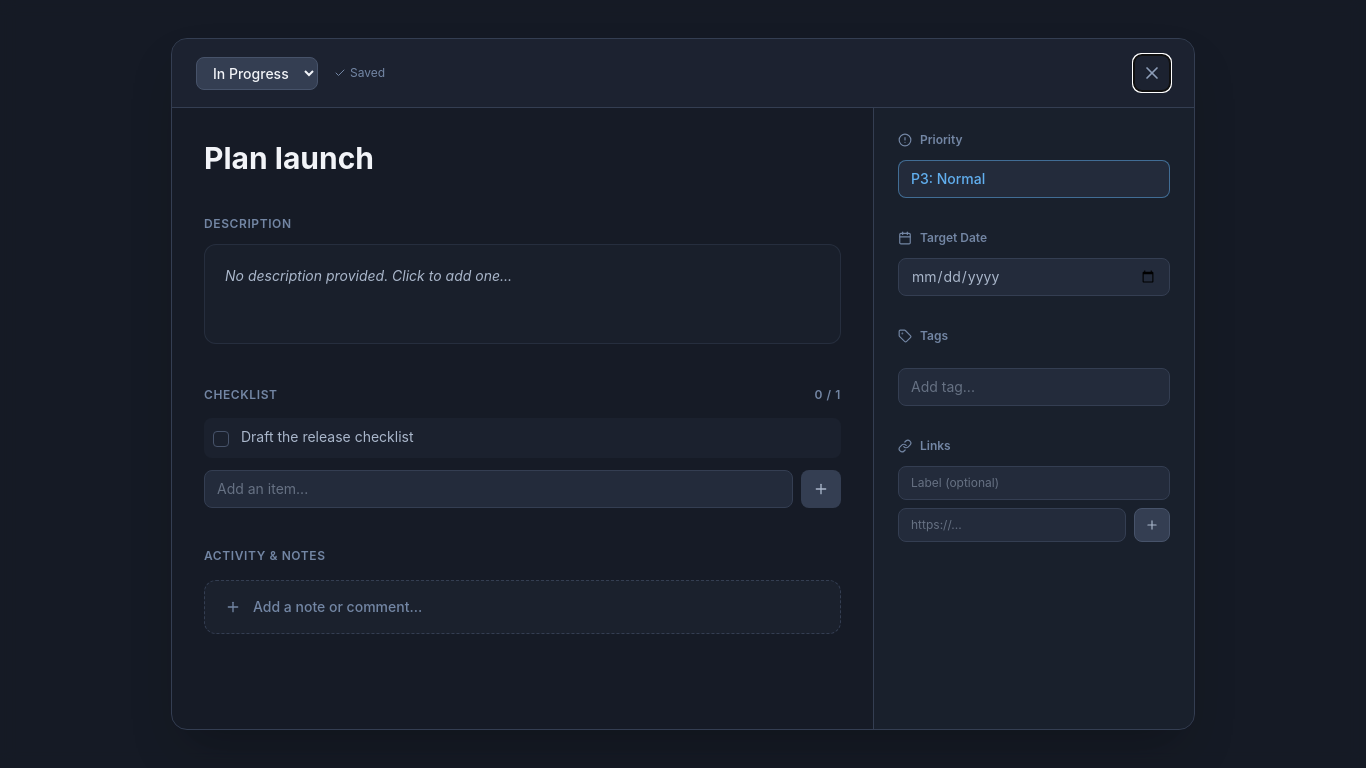
WorkspaceModal › opens subtask details from a semantic control and hides the workspace while nested
The image size is (1366, 768).
Click the button with aria-label "Open details for checklist item Draft the release checklist": (327, 437) left=241, top=427, right=750, bottom=447
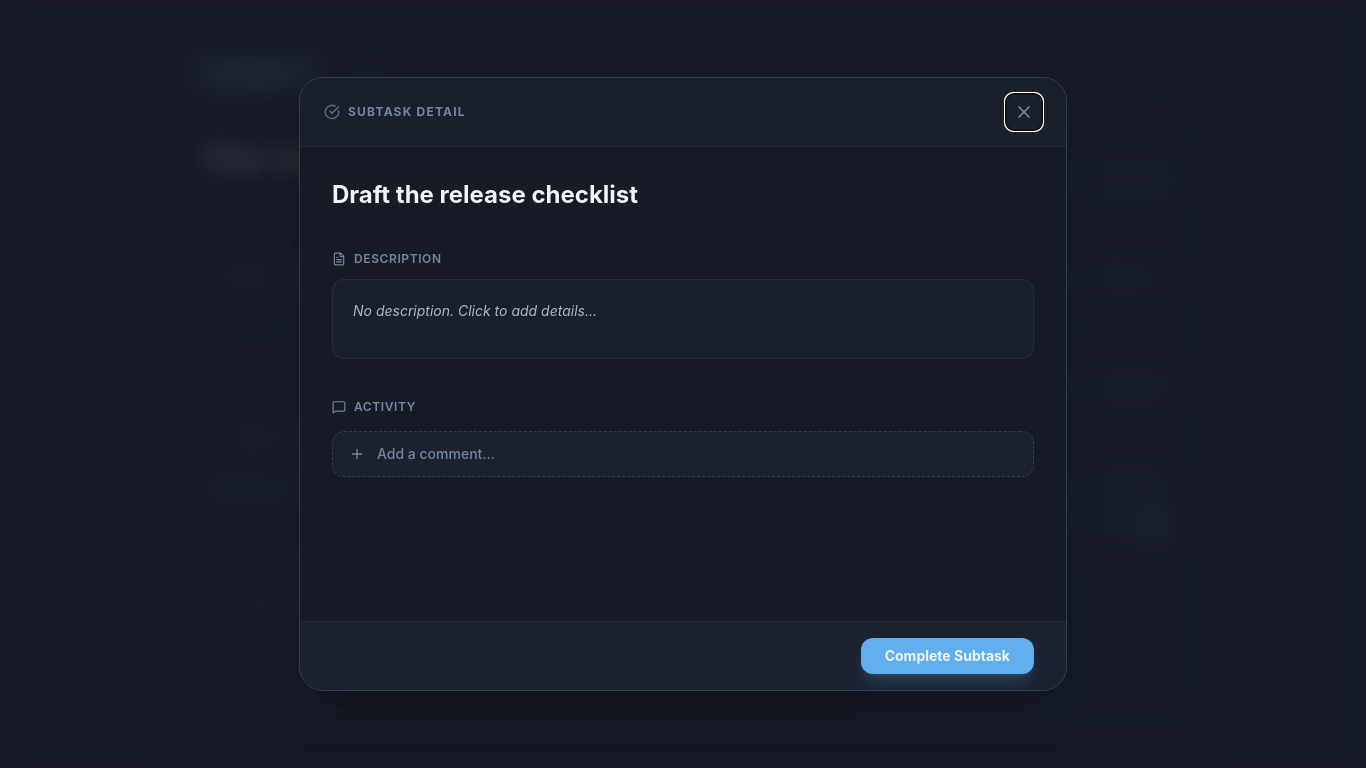
Check: the dialog named "Draft the release checklist details" is shown, box left=299, top=77, right=1067, bottom=691
